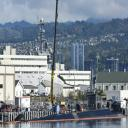submarine: (15, 94, 125, 122)
